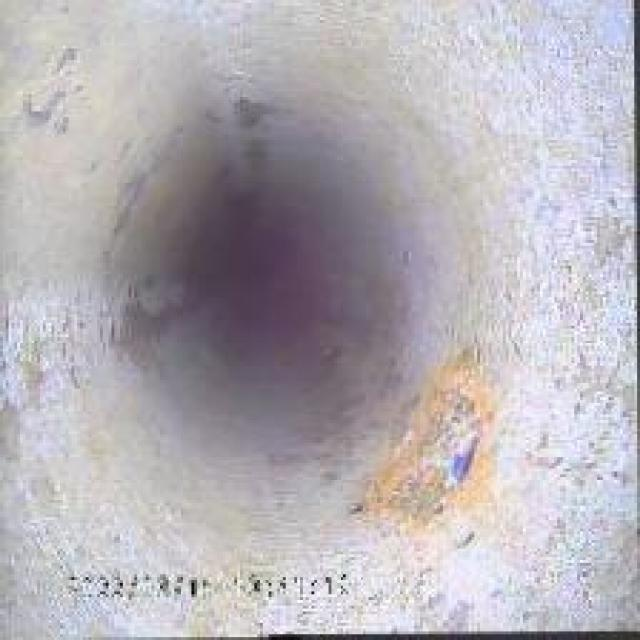ferrule: (357, 349, 506, 520)
